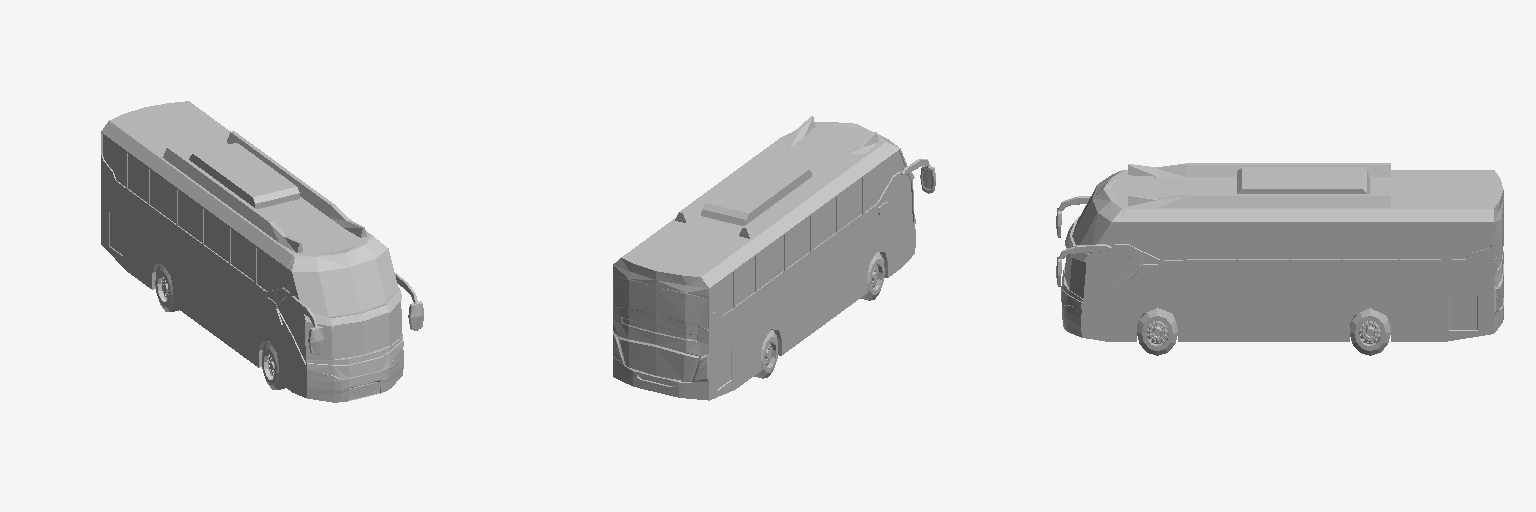
Rendered from bus.obj.
The picture shows the model from 3 angles: view 1: azimuth 30°, elevation 25°; view 2: azimuth 150°, elevation 25°; view 3: azimuth 270°, elevation 25°; orthographic projection.
Parts seen in each view (by area): view 1: body_bus_Cube; view 2: body_bus_Cube; view 3: body_bus_Cube.
Part boxes in pixels (left/top/right/bottom): body_bus_Cube: left=101, top=101, right=423, bottom=402; body_bus_Cube: left=613, top=116, right=935, bottom=400; body_bus_Cube: left=1056, top=163, right=1503, bottom=355.
Bounding box in the file's own units: 20.52 × 26.64 × 69.45.